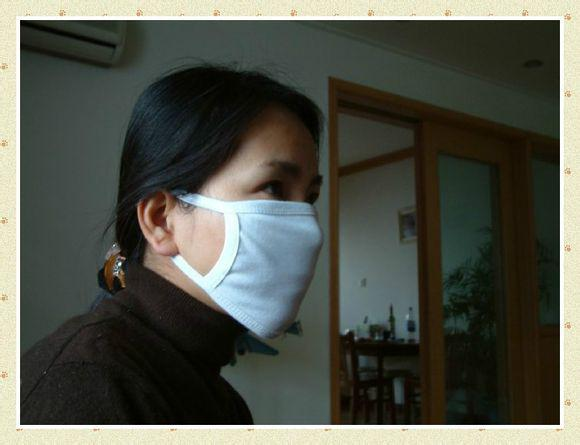OK: (150, 161, 325, 336)
